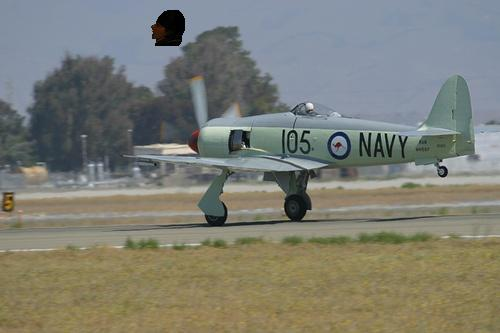tampered: (152, 11, 185, 46)
